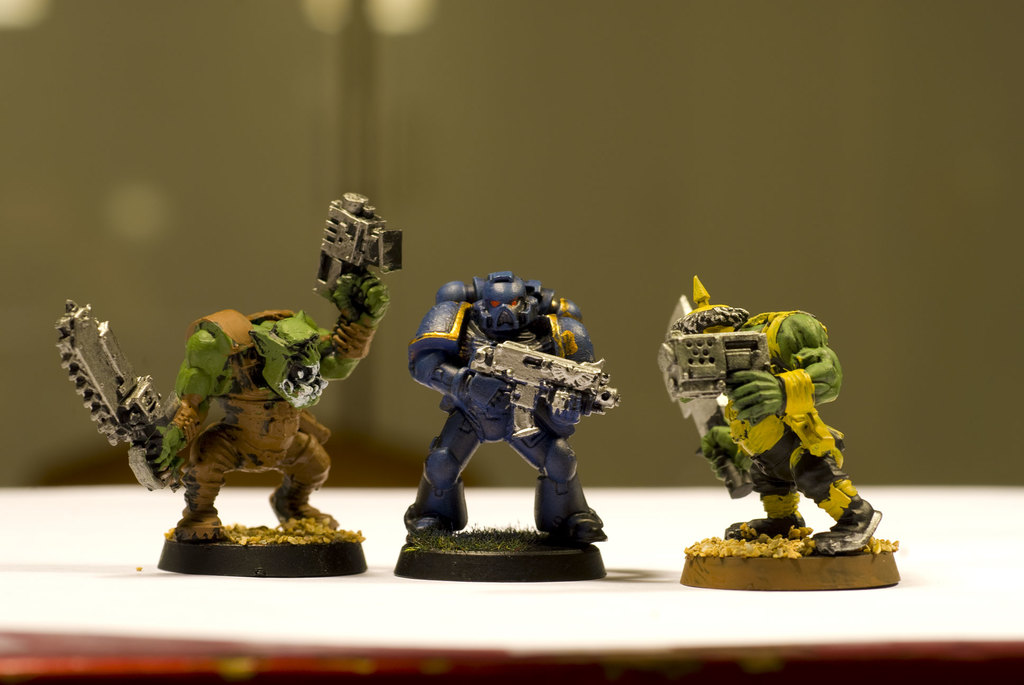person: (655, 302, 876, 540)
